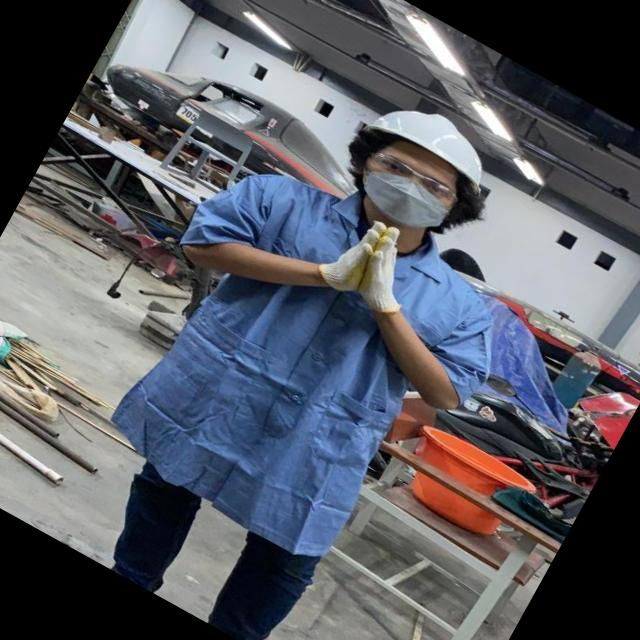hard_hat: (353, 79, 512, 204)
vehicle: (29, 37, 589, 640)
